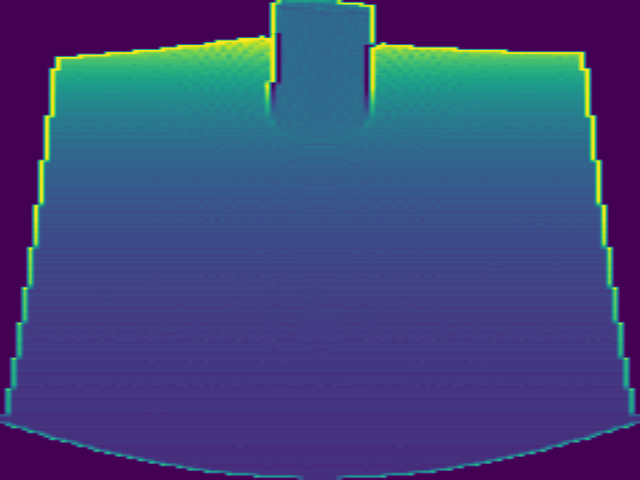cylinder: (265, 2, 377, 138)
